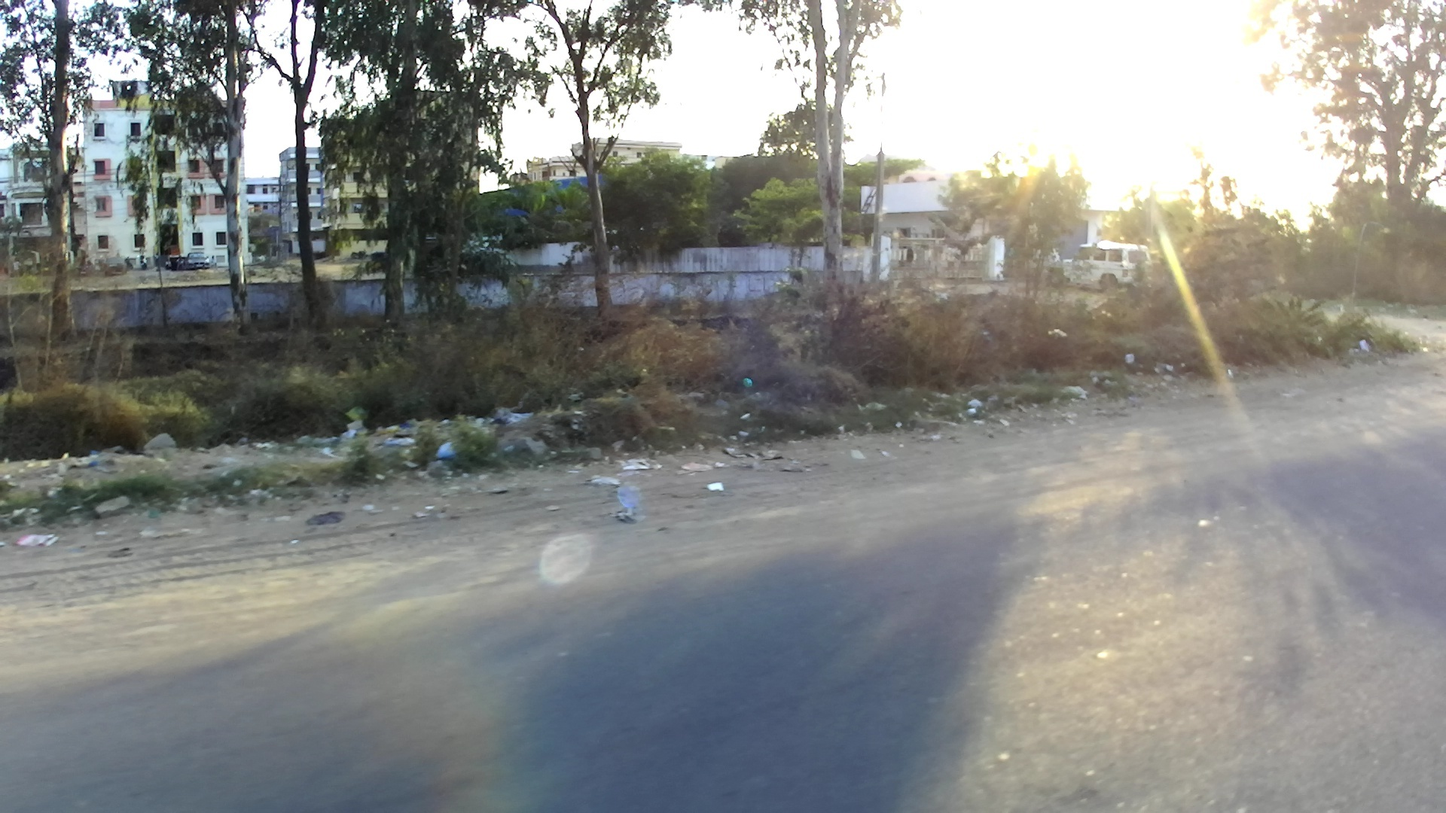autorickshaw: (164, 254, 184, 273)
car: (1046, 240, 1152, 294), (103, 254, 133, 281), (182, 251, 209, 270)
vehicle fallback: (127, 250, 148, 274)
